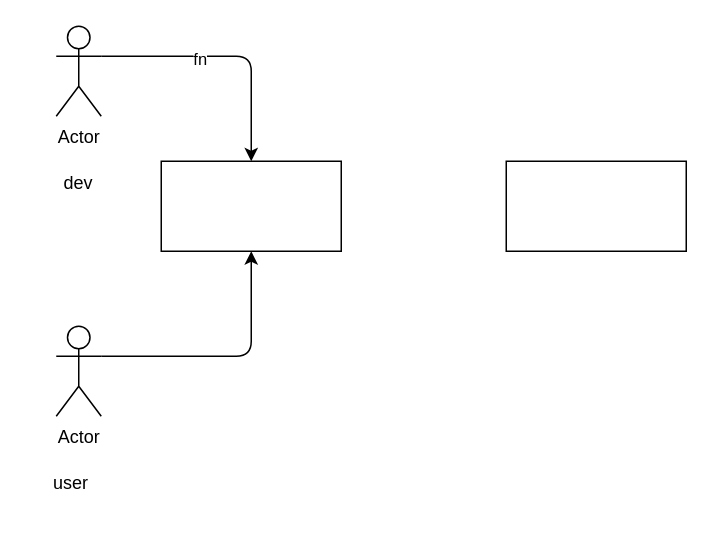
The diagram is 713 pixels wide and 533 high, and some of its shapes have lost their labels. The centre of each missing label's shape, as x and y in pixels:
"event" goes at pixel 595 205.
"task fn" goes at pixel 250 205.
